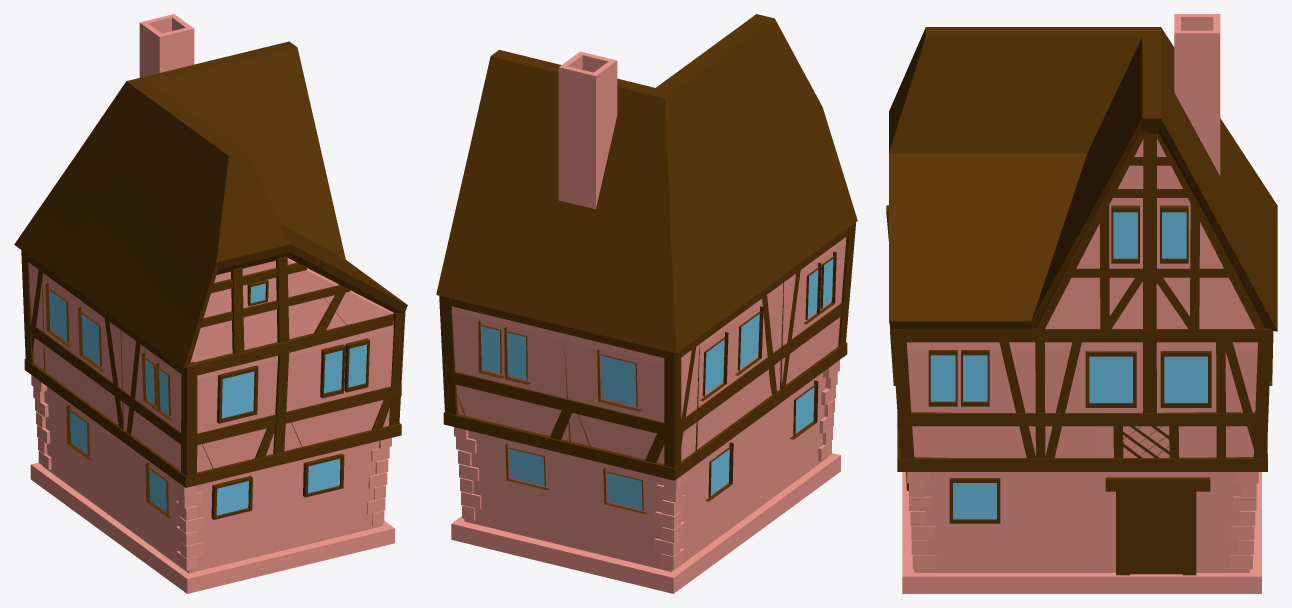
3 views of the same model, side by side, from view 1: azimuth 30°, elevation 25°; view 2: azimuth 150°, elevation 25°; view 3: azimuth 270°, elevation 25° (orthographic). The views are drawn at different scales.
Parts seen in each view (by area): view 1: base_Cube.035; view 2: base_Cube.035; view 3: base_Cube.035.
Part boxes in pixels (x1=…): base_Cube.035: x1=14, y1=14, x2=407, y2=593; base_Cube.035: x1=436, y1=14, x2=857, y2=593; base_Cube.035: x1=886, y1=14, x2=1277, y2=593.
Size of the model in its own units: 0.1242 by 0.2369 by 0.1635.
4 materials, 4 textured.
